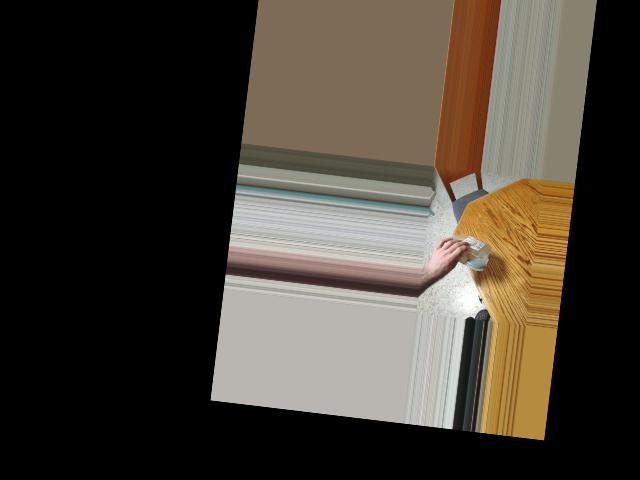cheese: (447, 231, 489, 269)
